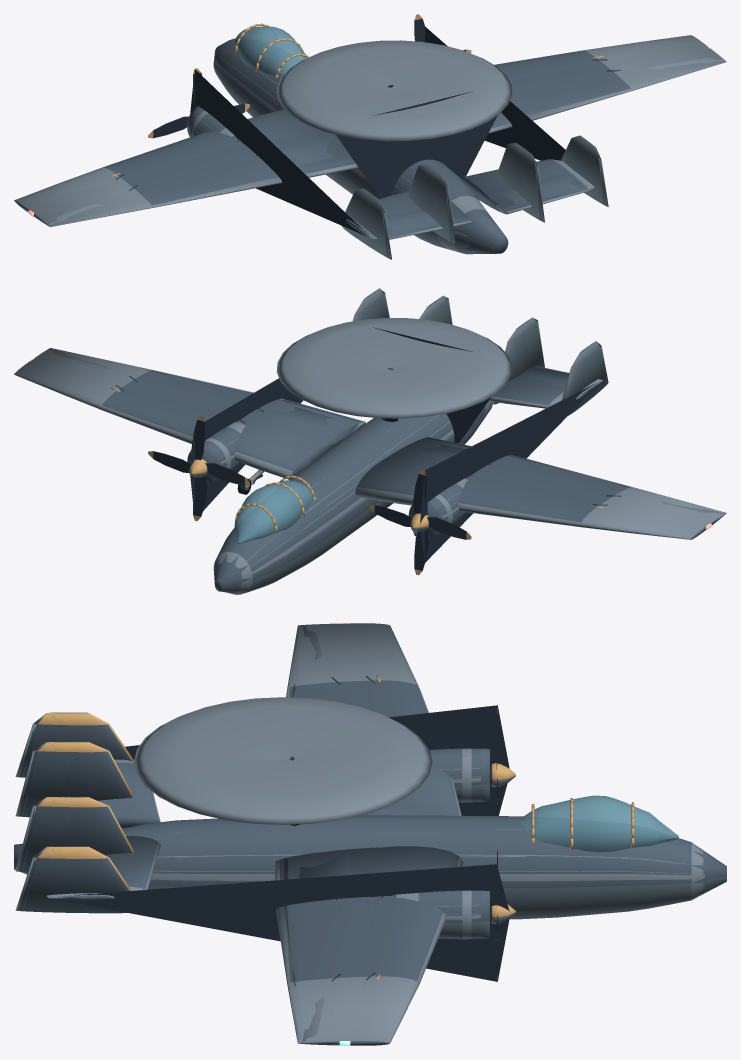
3 views of the same model, one above another, from view 1: azimuth 30°, elevation 25°; view 2: azimuth 150°, elevation 25°; view 3: azimuth 270°, elevation 25° (orthographic). The views are drawn at different scales.
Visible parts, largest first — view 1: Airframe shell mesh, Central fuselage, Airframe shell.001 mesh, Rotodome, Port wing, Airframe shell.002 mesh, Starboard wing, Aft nacelles, Forward fuselage, Canopy glass, Rotodome.001, Canopy glass.001 (+4 smaller); view 2: Airframe shell mesh, Central fuselage, Rotodome, Airframe shell.001 mesh, Port wing, Airframe shell.002 mesh, Starboard wing, Canopy glass, Forward fuselage, Aft nacelles, Rotodome.001, Canopy glass.001 (+4 smaller); view 3: Airframe shell mesh, Central fuselage, Airframe shell.001 mesh, Starboard wing, Rotodome, Aft nacelles, Port wing, Canopy glass, Airframe shell.002 mesh, Forward fuselage, Canopy glass.001, Drive fairing.001 (+3 smaller).
Part boxes in pixels (left/top/right/bottom): Airframe shell mesh: left=15, top=24, right=711, bottom=259; Central fuselage: left=190, top=14, right=505, bottom=198; Airframe shell.001 mesh: left=14, top=25, right=725, bottom=258; Rotodome: left=276, top=40, right=512, bottom=141; Port wing: left=16, top=69, right=370, bottom=237; Airframe shell.002 mesh: left=16, top=42, right=724, bottom=257; Starboard wing: left=425, top=27, right=724, bottom=160; Aft nacelles: left=337, top=92, right=606, bottom=257; Forward fuselage: left=214, top=23, right=308, bottom=114; Canopy glass: left=234, top=26, right=306, bottom=75; Rotodome.001: left=313, top=48, right=476, bottom=117; Canopy glass.001: left=235, top=26, right=305, bottom=74; Airframe shell mesh: left=14, top=293, right=711, bottom=594; Central fuselage: left=190, top=327, right=505, bottom=574; Rotodome: left=276, top=318, right=512, bottom=418; Airframe shell.001 mesh: left=30, top=290, right=725, bottom=594; Port wing: left=420, top=380, right=726, bottom=562; Airframe shell.002 mesh: left=36, top=289, right=724, bottom=594; Starboard wing: left=29, top=349, right=302, bottom=510; Canopy glass: left=234, top=480, right=312, bottom=543; Forward fuselage: left=215, top=475, right=332, bottom=591; Aft nacelles: left=355, top=288, right=607, bottom=442; Rotodome.001: left=313, top=325, right=476, bottom=394; Canopy glass.001: left=235, top=480, right=311, bottom=543; Airframe shell mesh: left=14, top=623, right=726, bottom=1045; Central fuselage: left=211, top=705, right=522, bottom=981; Airframe shell.001 mesh: left=15, top=623, right=700, bottom=1045; Starboard wing: left=50, top=864, right=509, bottom=1045; Rotodome: left=134, top=697, right=432, bottom=824; Aft nacelles: left=19, top=712, right=211, bottom=912; Port wing: left=125, top=623, right=509, bottom=815; Canopy glass: left=522, top=796, right=678, bottom=852; Airframe shell.002 mesh: left=14, top=623, right=726, bottom=1045; Forward fuselage: left=522, top=796, right=704, bottom=912; Canopy glass.001: left=525, top=795, right=663, bottom=851; Drive fairing.001: left=391, top=890, right=489, bottom=939.
Bounding box in the file's own units: 24.69 × 4.52 × 17.72.
